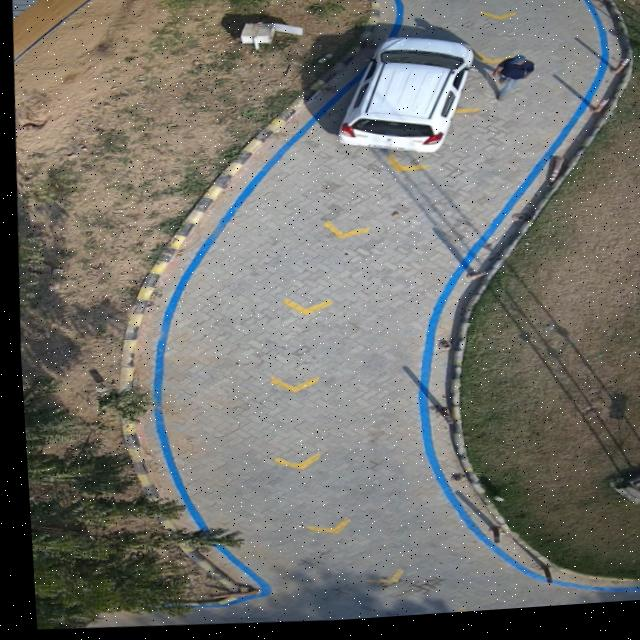car: (333, 41, 471, 160)
